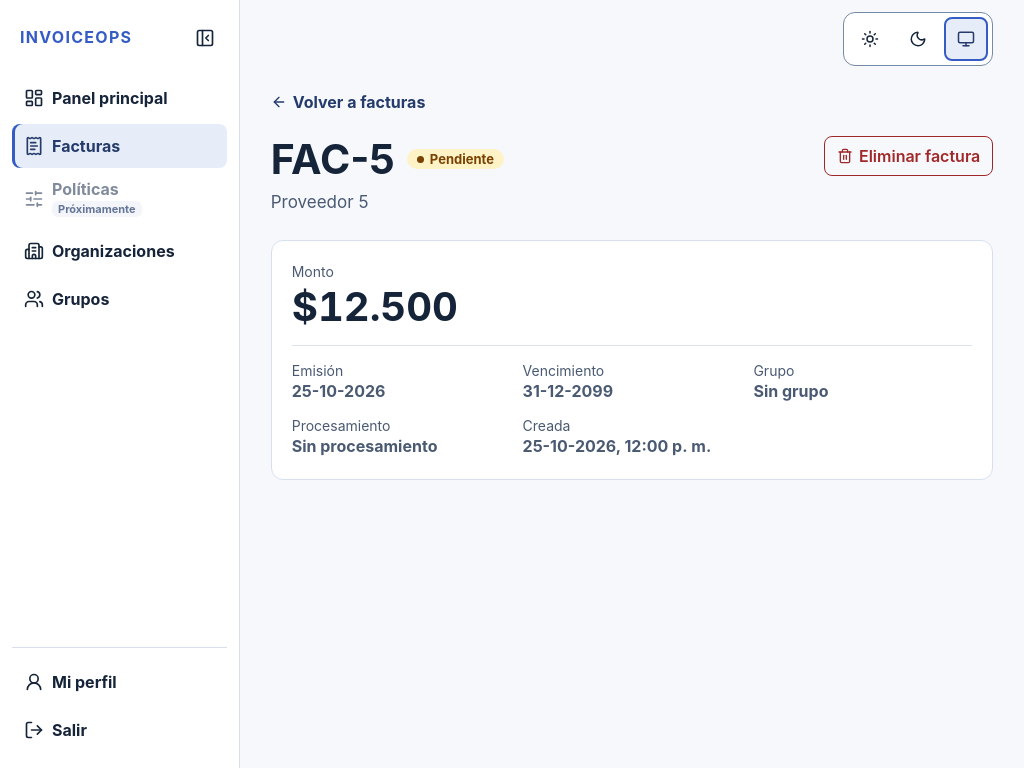
Test: invoice deletion (AC-20) › opens a modal naming the invoice; «Cancelar» sends nothing and returns focus
Expected: the heading "FAC-5" is shown, [271, 136, 395, 183]
What coordinates should you click on to do the following:
click the button "Eliminar factura"
I would click on:
 (909, 156)
Its box is [824, 136, 993, 176].
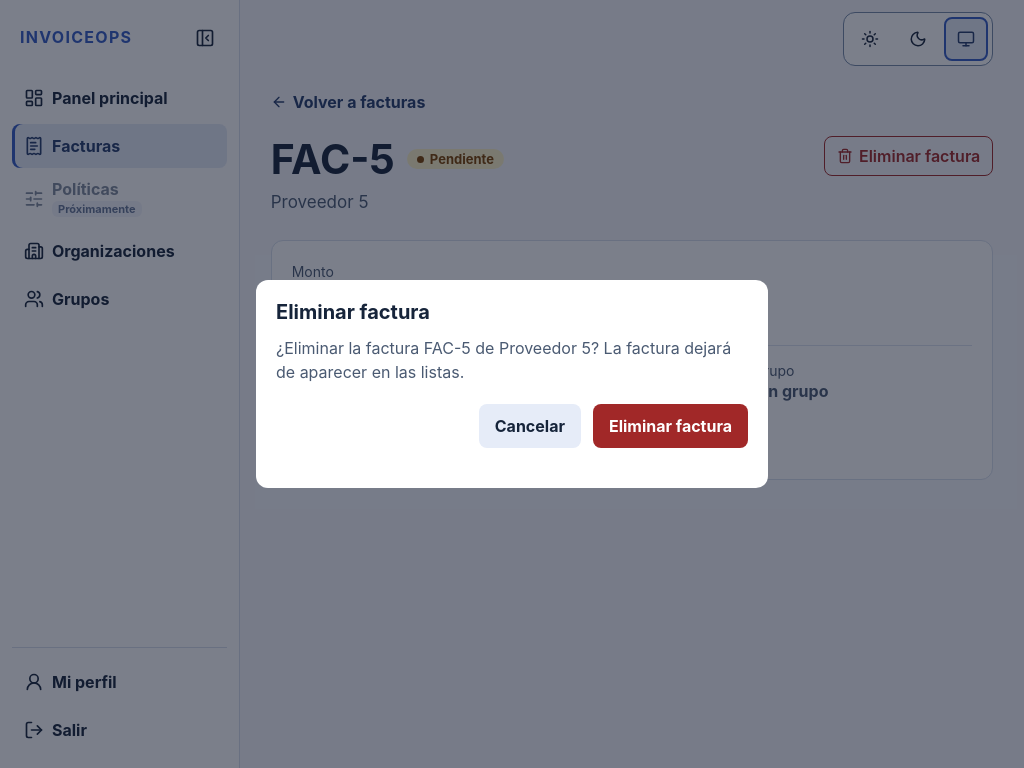
Now the dialog shows "FAC-5", box [424, 338, 471, 358]
Now the dialog shows "Proveedor 5", box [499, 338, 591, 358]
What coordinates should you click on to do the following:
click the button "Cancelar"
I would click on:
 (530, 426)
Its box is [479, 404, 581, 448].
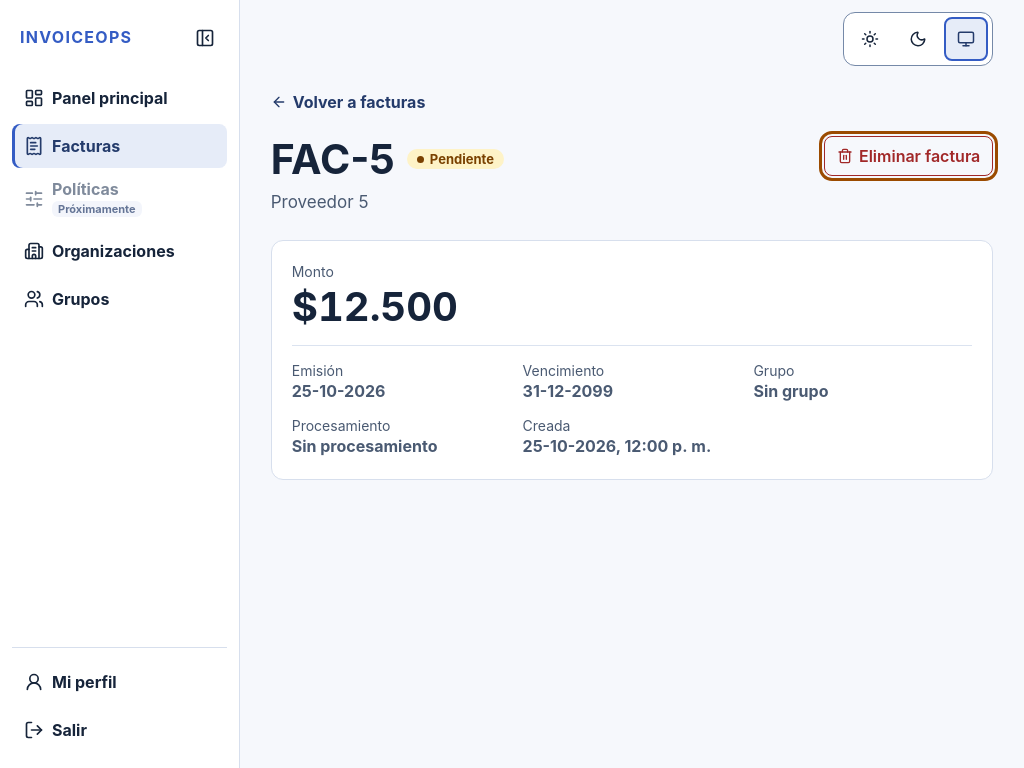
Now the dialog is gone
